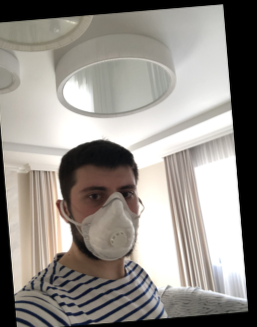with_mask: (76, 178, 140, 262)
